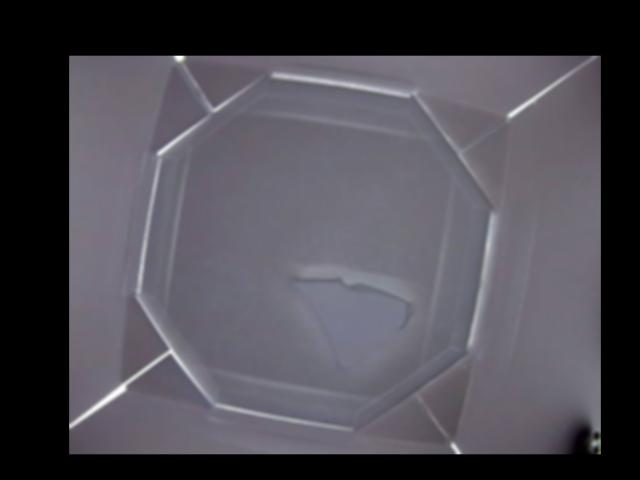China: (290, 275, 415, 374)
